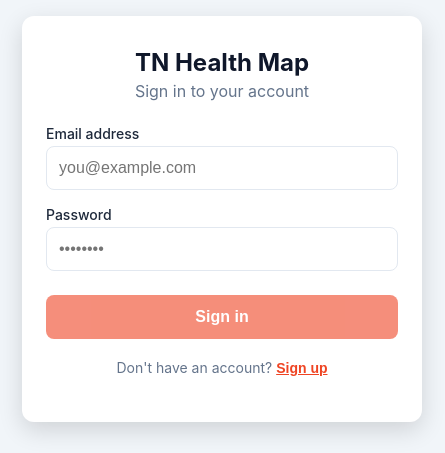
Scenario: LoginForm › switches to sign-up mode when the toggle link is clicked
Click the button "Sign up".
click(302, 368)  # box top-left (276, 360), bottom-right (328, 376)
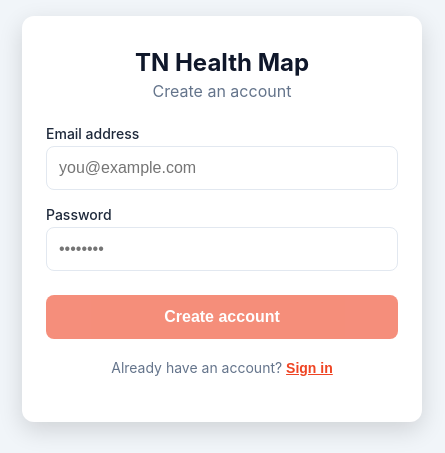
Result: the heading "Create an account" is shown at top-left (153, 81), bottom-right (291, 101)
Result: the button "Create account" is shown at top-left (46, 295), bottom-right (398, 339)
